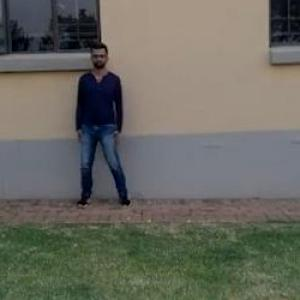follow: (72, 39, 121, 208)
